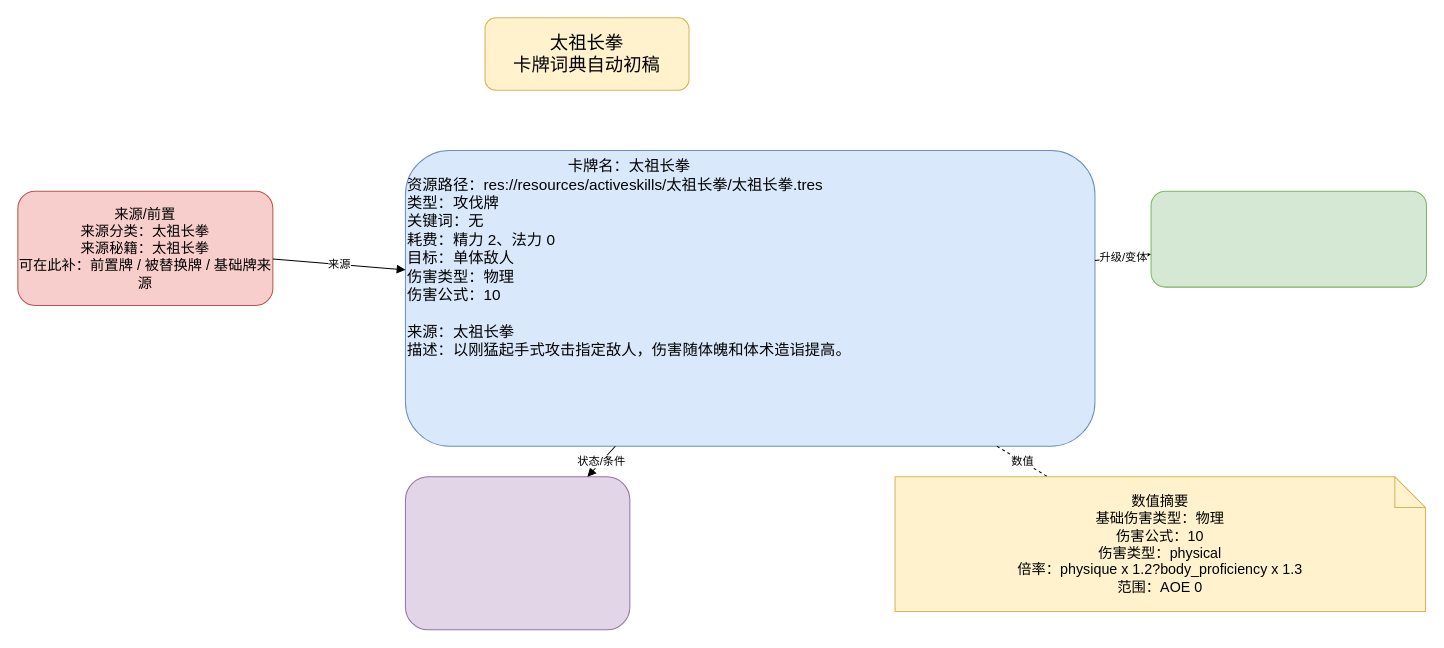
Some shapes in this 1444 by 648 pixel diagram are drawn without their labels. Each missing label, with the centre of its shape:
升级/变体预留 可在此补：升级牌 / 主修强化版 / 化法后新牌 同系：太祖长拳: (1288,238)
状态/关键词/条件 关键词：无 状态：无 功法条件：NONE 流转：无 乘势：无 应对：无: (517,553)
